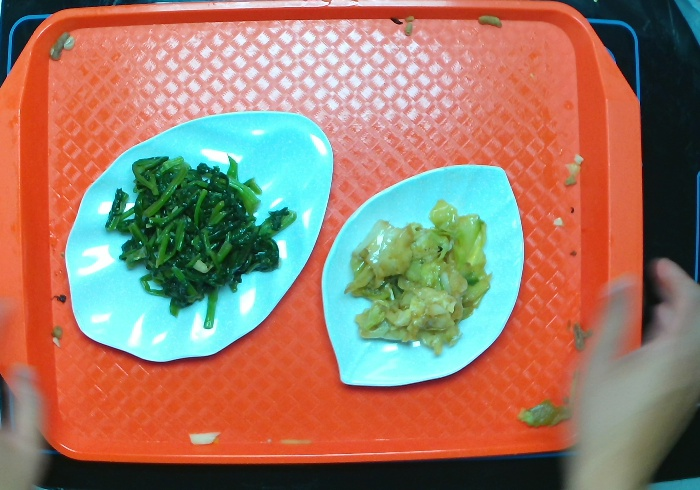RJxy-Bai_Ye_Pan: (59, 101, 338, 365)
RJxy-Da_Du_Pan: (315, 157, 531, 397)
